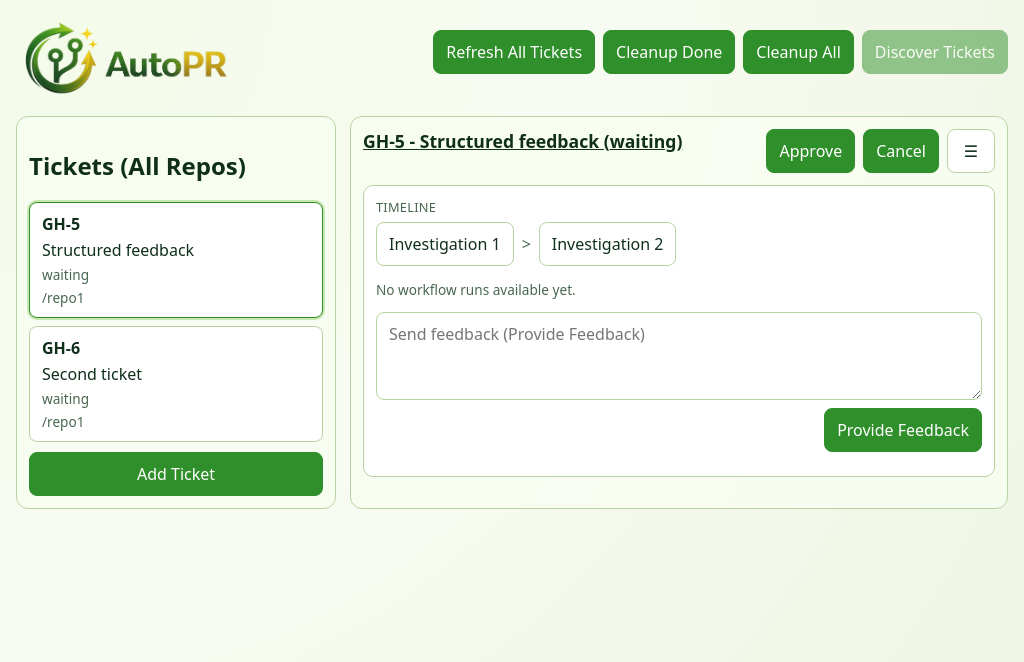
App › shows failed jobs only for the affected ticket
Click the button "Approve".
click(811, 151)  # box [766, 129, 855, 173]
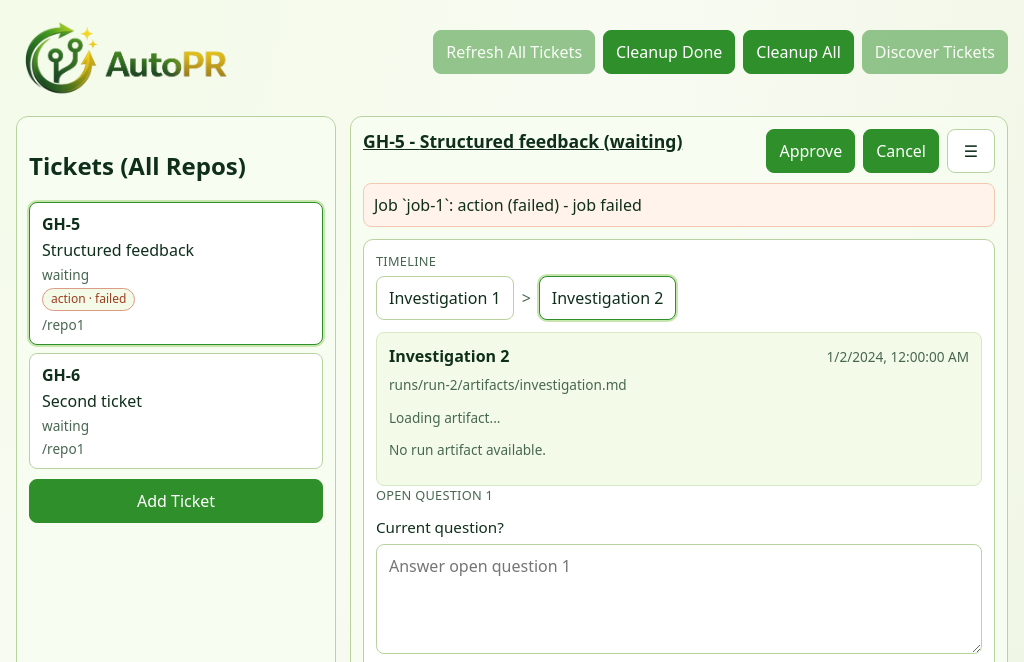
Expected: the text "Job `job-1`: action (failed) - job failed" is shown, [363, 183, 995, 227]
Click the button "GH-6 Second ticket waiting /repo1".
click(61, 375)  # box [29, 353, 323, 469]
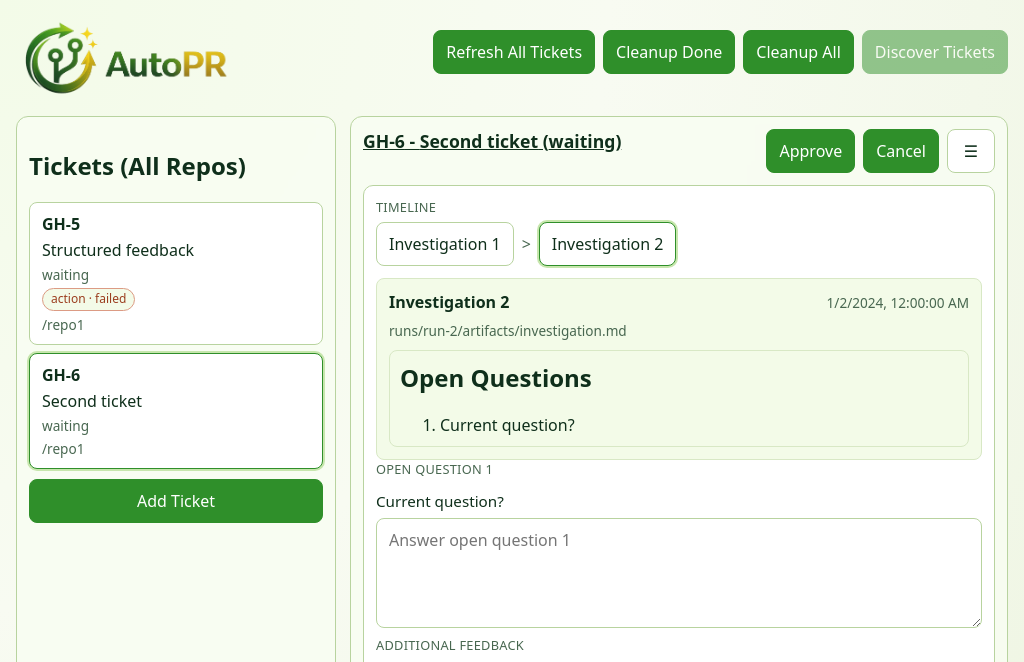
Expected: the text "Job `job-1`: action (failed) - job failed" is gone
